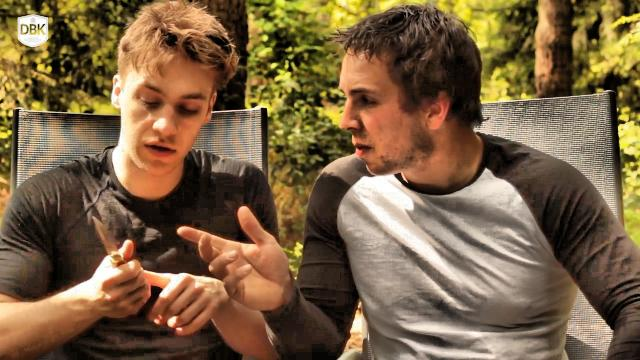knife: (77, 204, 151, 298)
